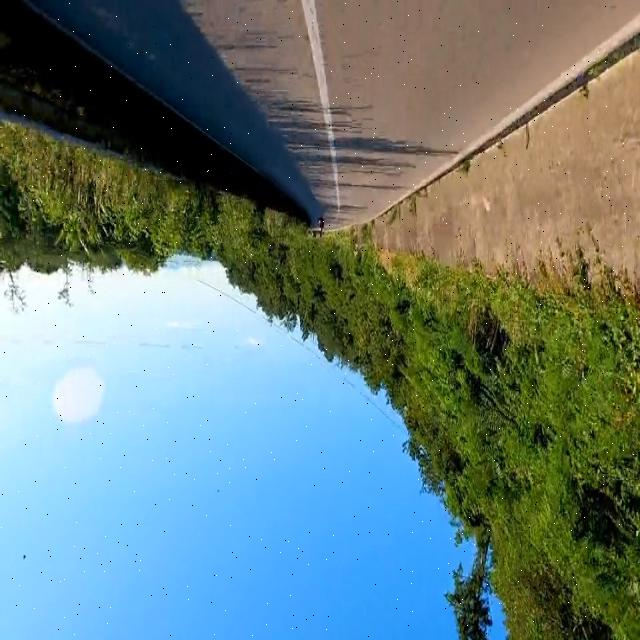lane: (301, 1, 339, 212)
road: (35, 2, 639, 230)
